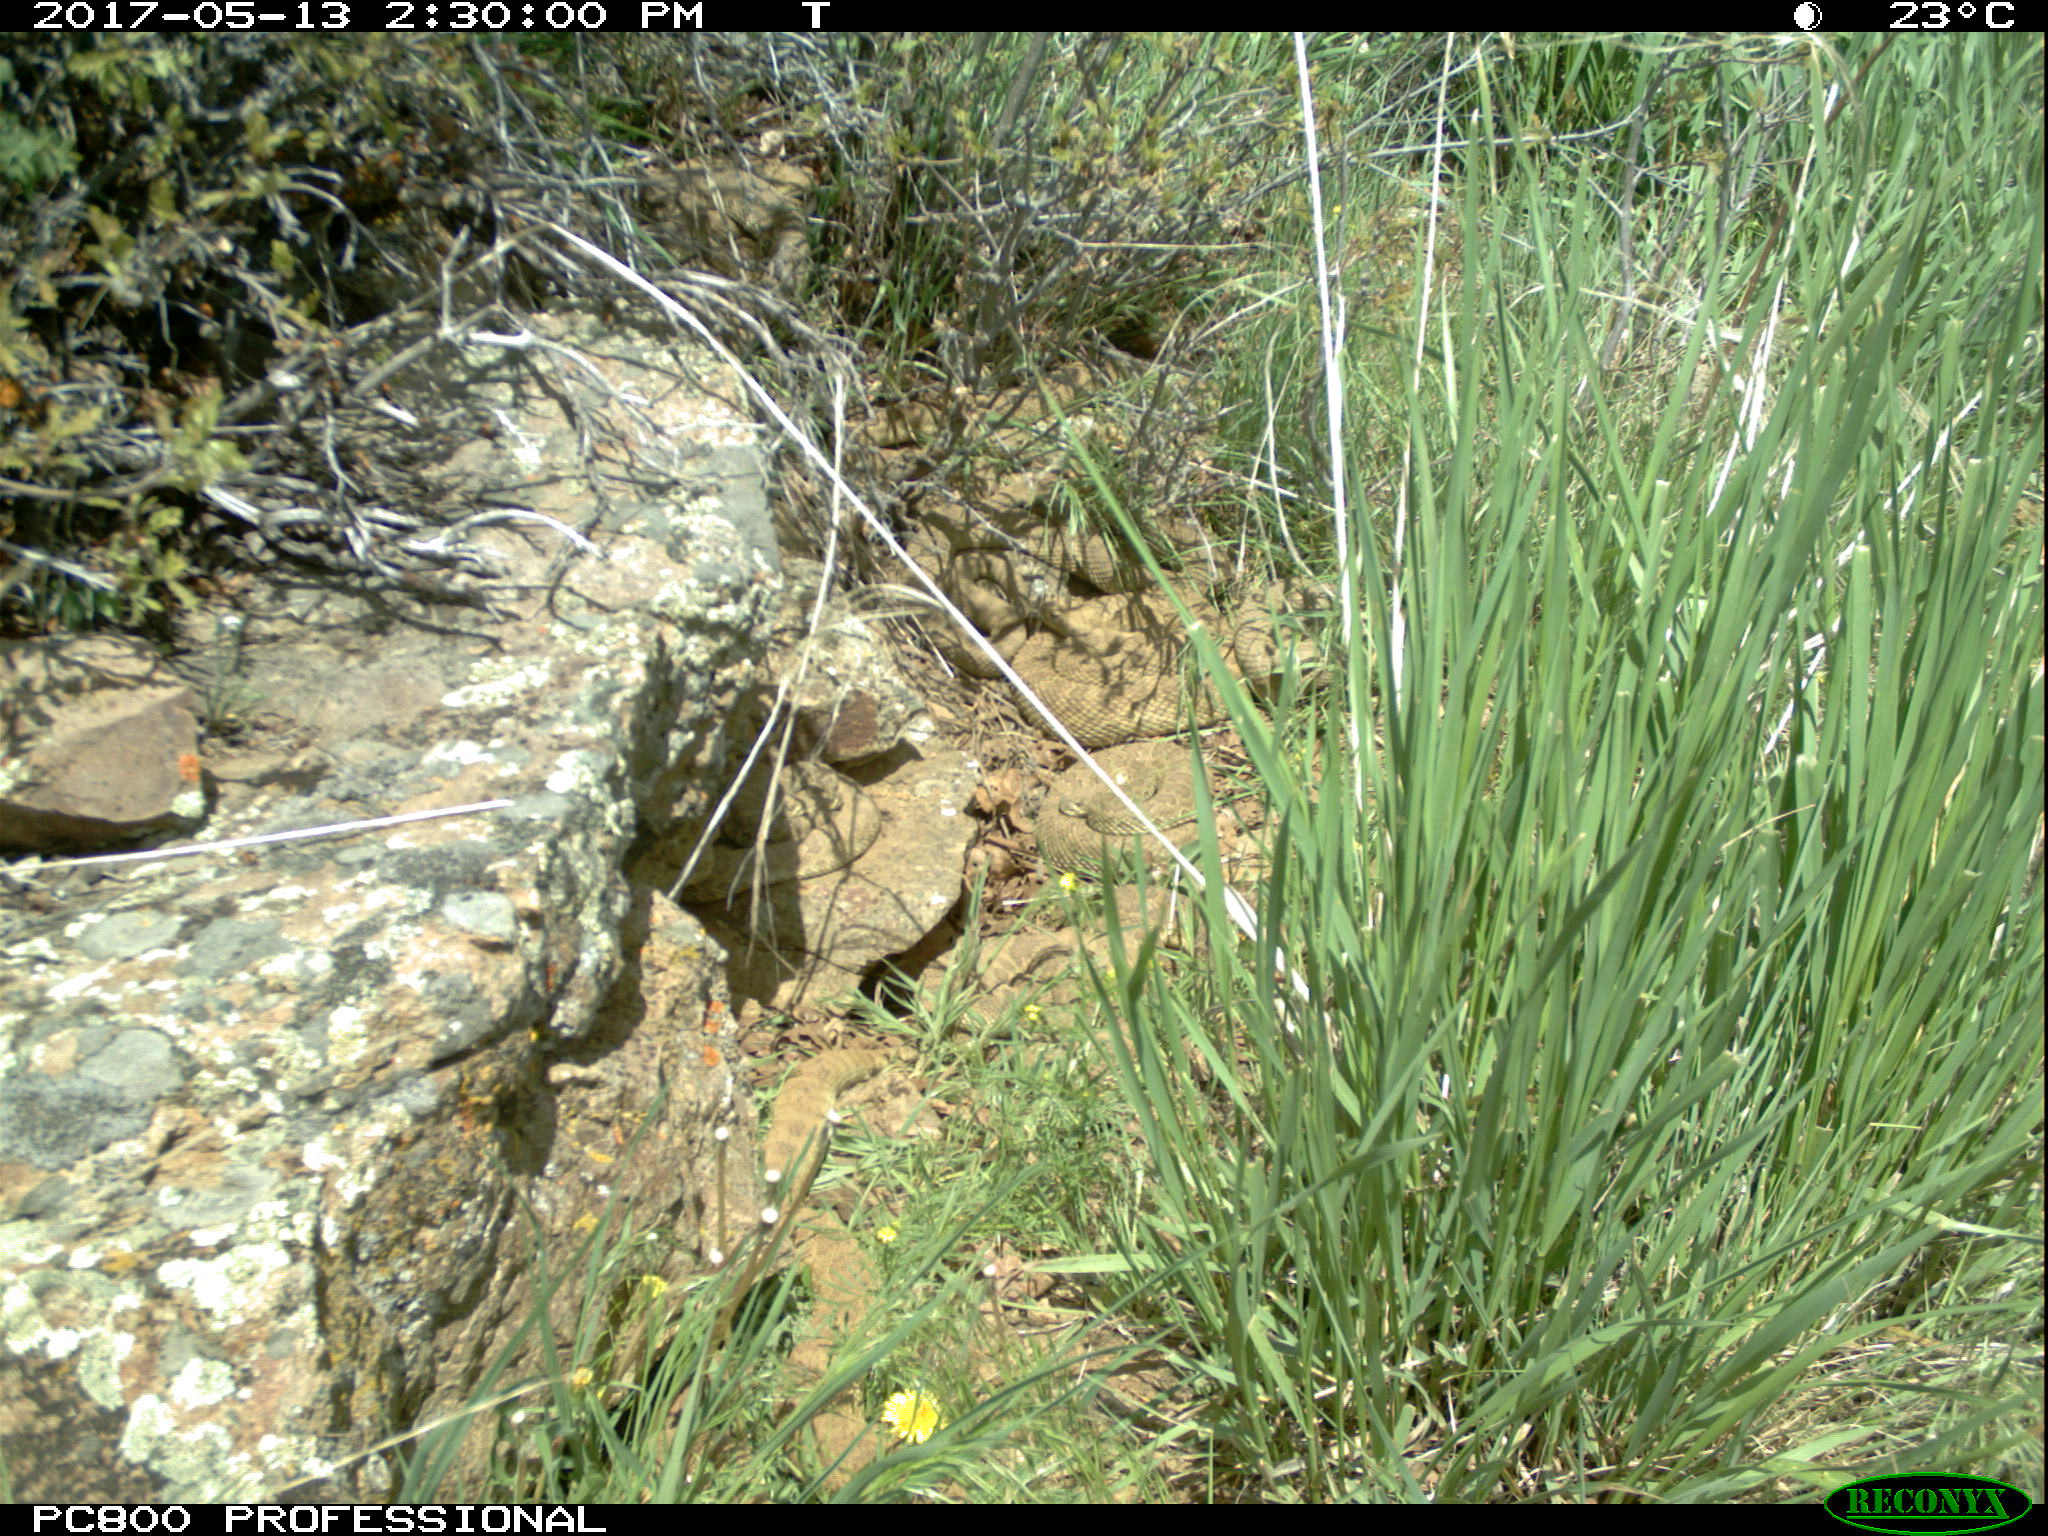snake: (763, 1042, 895, 1494), (1014, 597, 1240, 736), (914, 931, 1147, 1039), (1034, 739, 1209, 878), (1014, 516, 1227, 599), (1230, 574, 1366, 697), (947, 545, 1030, 678)
